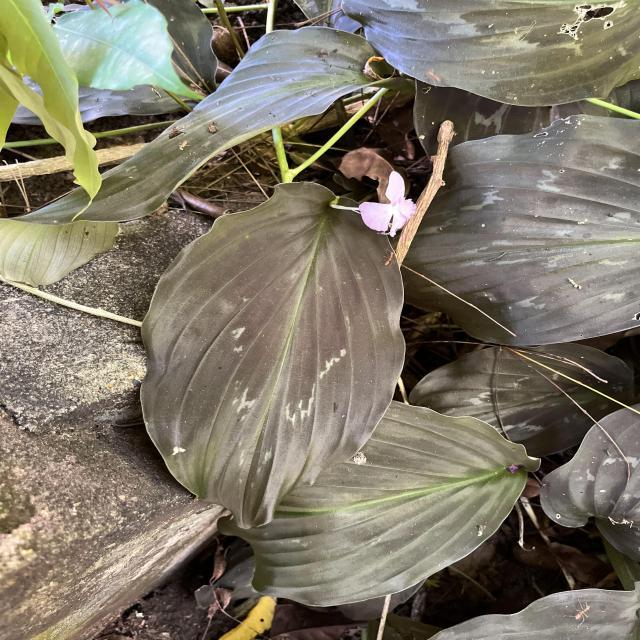Kaempferia galanga linn: (136, 176, 410, 532)
